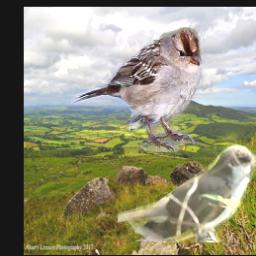Cuckoo: (118, 144, 256, 242)
Sparrow: (71, 28, 206, 153)
